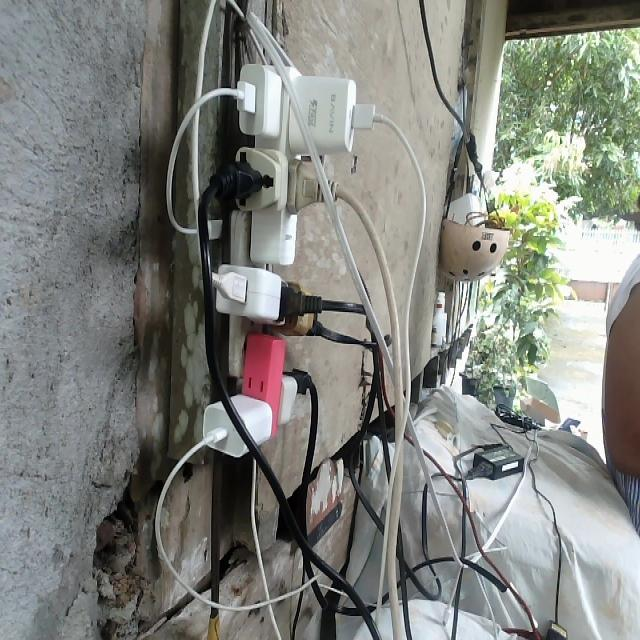-: (175, 61, 379, 459)
